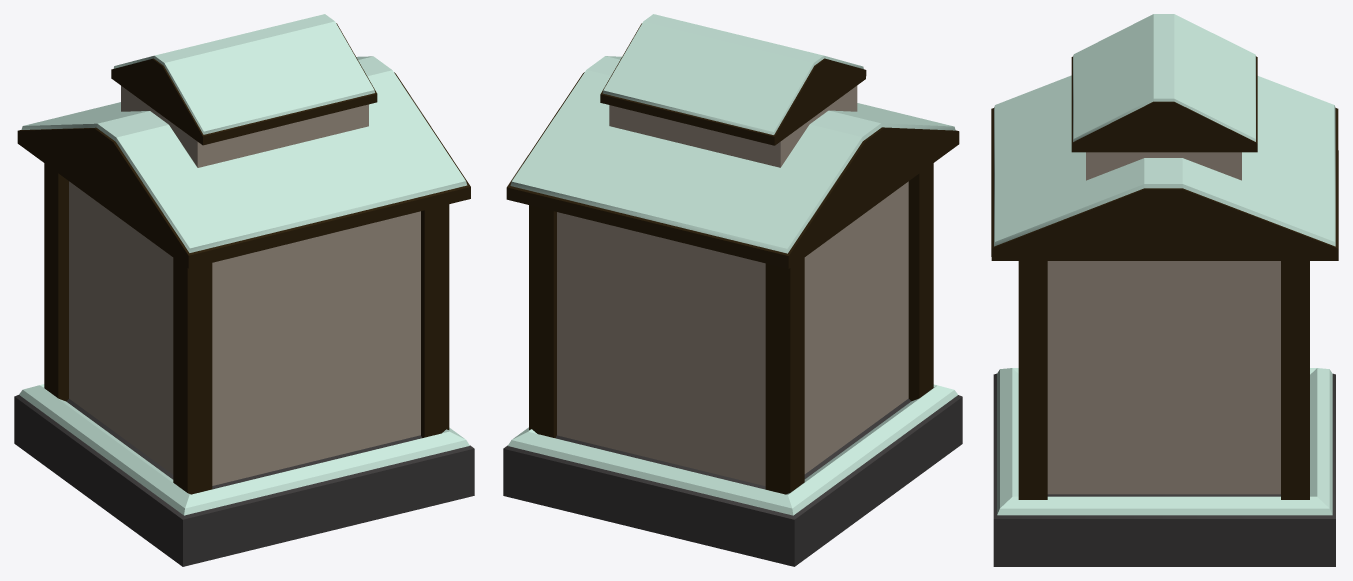
The model's file is winter-tower-v2.glb.
3 views of the same model, side by side, from view 1: azimuth 30°, elevation 25°; view 2: azimuth 150°, elevation 25°; view 3: azimuth 270°, elevation 25° (orthographic).
Visible parts, largest first — view 1: WinterTower_v2; view 2: WinterTower_v2; view 3: WinterTower_v2.
Boxes of the visible parts, x1,y1,x2,y2 form: WinterTower_v2: [14, 14, 474, 566]; WinterTower_v2: [503, 14, 962, 566]; WinterTower_v2: [991, 14, 1338, 566].
Bounding box in the file's own units: 400 × 565 × 406.
1 material, 1 textured.
